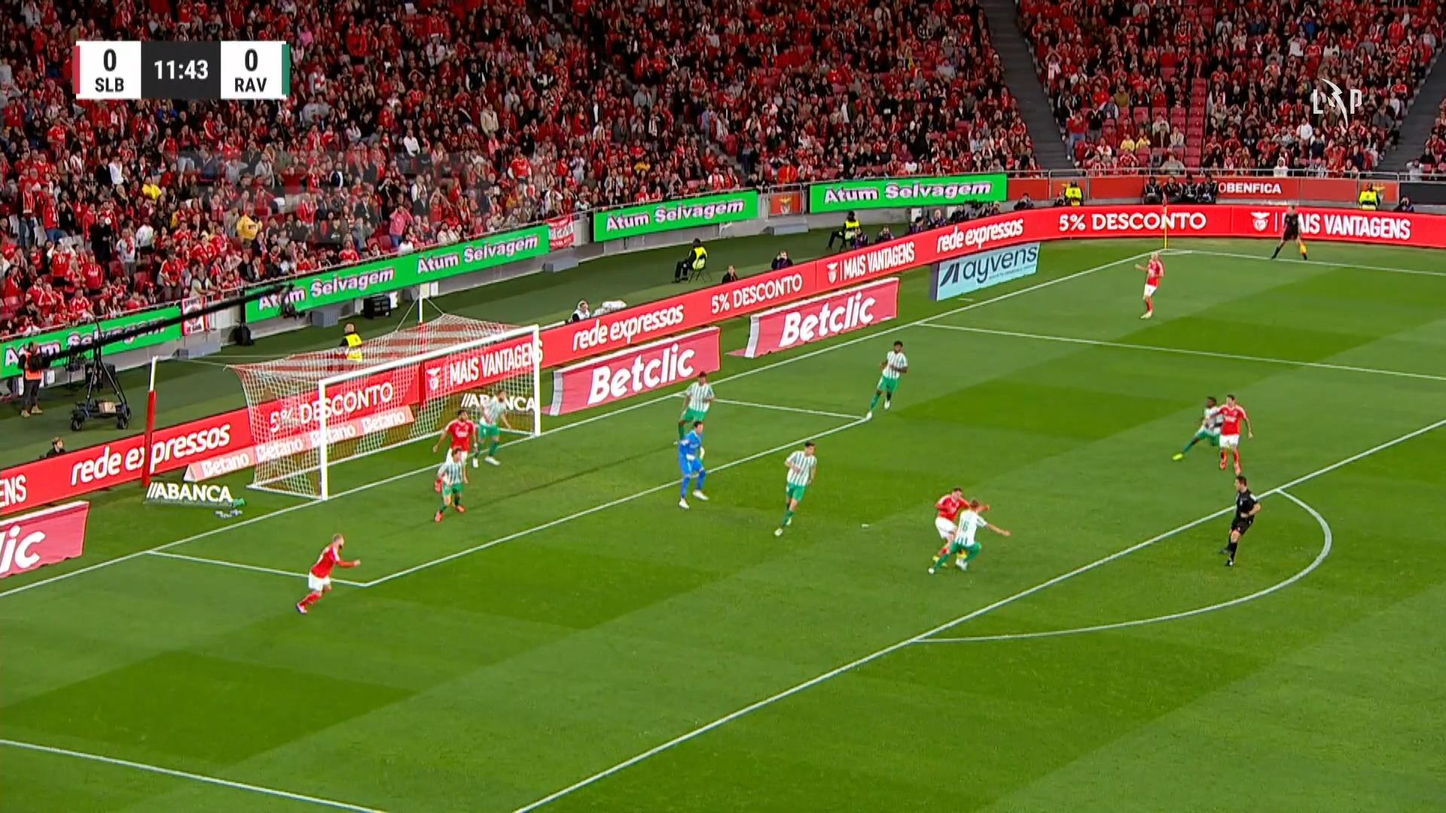goalkeeper: (674, 419, 709, 510)
player: (294, 532, 361, 615), (948, 498, 1011, 572), (773, 440, 818, 537), (927, 486, 976, 574), (1207, 392, 1253, 476), (431, 407, 479, 486), (864, 339, 908, 421), (1171, 394, 1224, 462), (470, 389, 511, 467), (676, 370, 715, 444), (432, 446, 468, 522), (1134, 250, 1164, 319)
referee: (1219, 474, 1261, 567), (1270, 204, 1308, 260)
